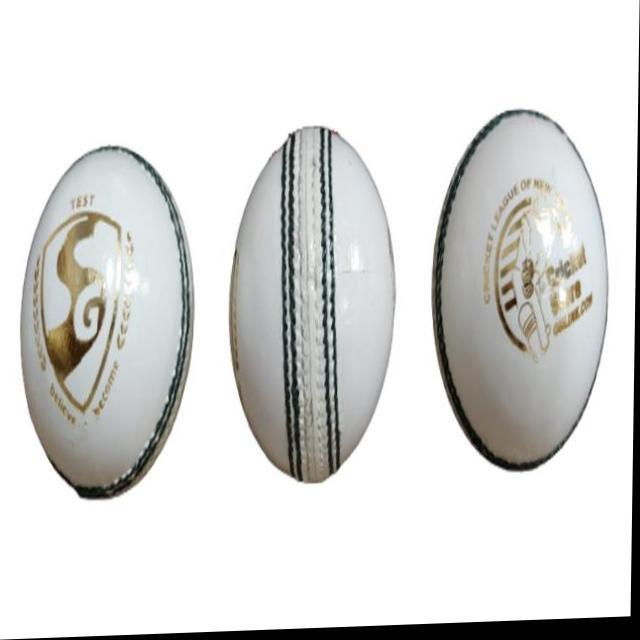cricket ball: (432, 114, 609, 476), (20, 146, 195, 501), (230, 127, 397, 489)
